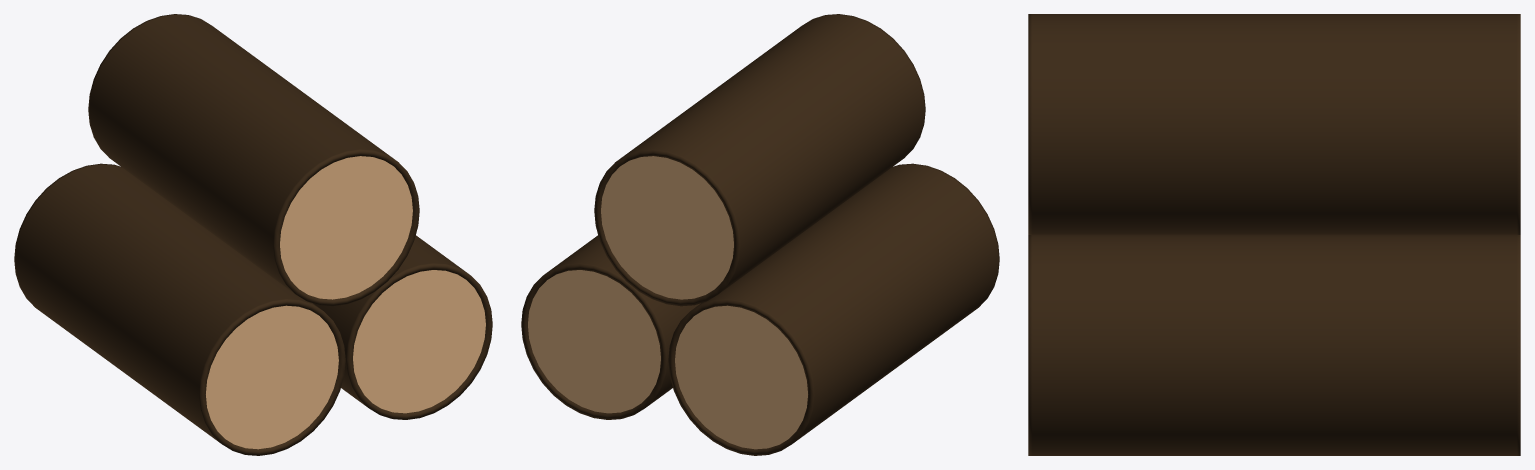
Rendered from Wood.fbx.
3 views of the same model, side by side, from view 1: azimuth 30°, elevation 25°; view 2: azimuth 150°, elevation 25°; view 3: azimuth 270°, elevation 25° (orthographic). The views are drawn at different scales.
Parts seen in each view (by area): view 1: Cylinder; view 2: Cylinder; view 3: Cylinder.
Boxes of the visible parts, left/top/right/bottom form: Cylinder: left=14, top=14, right=492, bottom=455; Cylinder: left=521, top=14, right=999, bottom=455; Cylinder: left=1028, top=14, right=1520, bottom=455.
Bounding box in the file's own units: 403 × 373 × 445.
